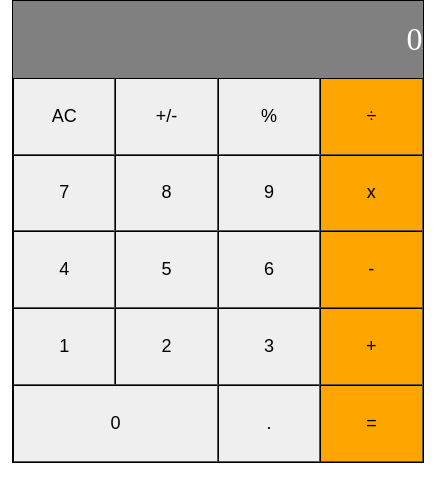
Test: Test If a user click a button on the Calculator  the display should Update › If a user click 63, +, and 8 button the Calculator Screen displays 63 + 8
Click the button "6". click: (269, 270)
box: [218,231,320,308]
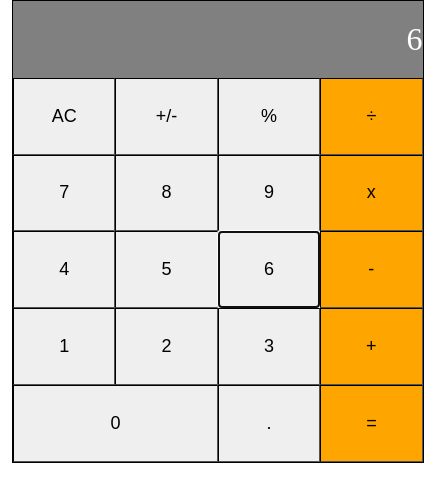
Click the button "3". click: (269, 347)
box: [218,308,320,385]
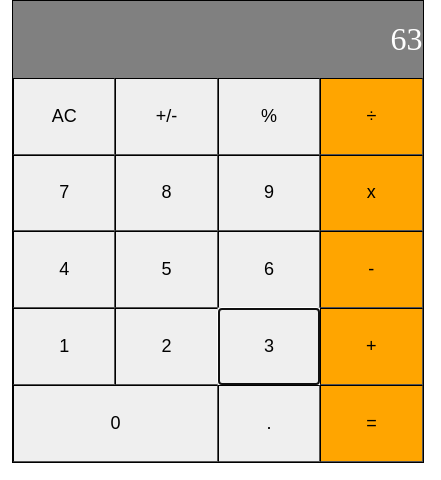
Click the button "x". click: (371, 193)
box: [320,155,423,231]
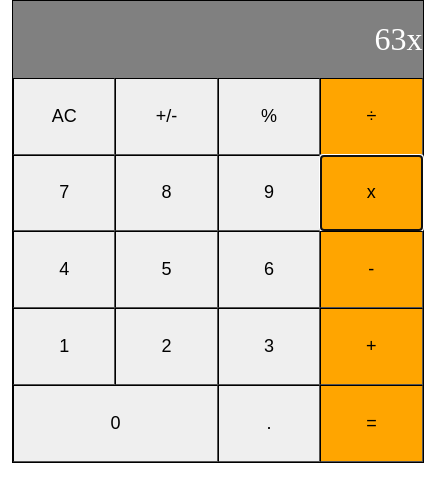
Click the button "8". click: (167, 193)
box: [115,155,218,231]
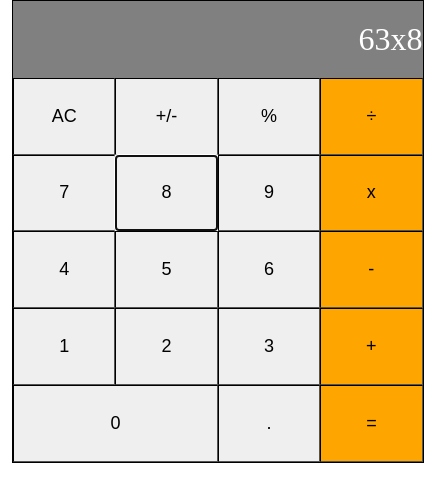
expect the text "63x8" is shown: met, box [13,1,423,78]
